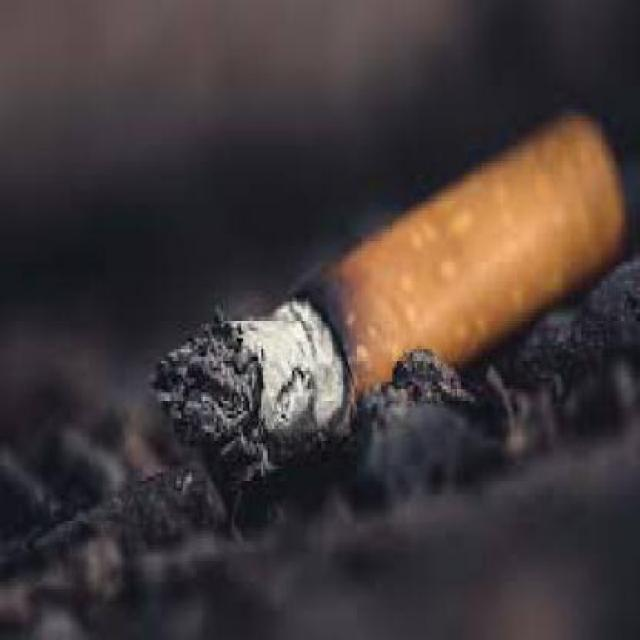cigarette: (149, 112, 625, 477)
